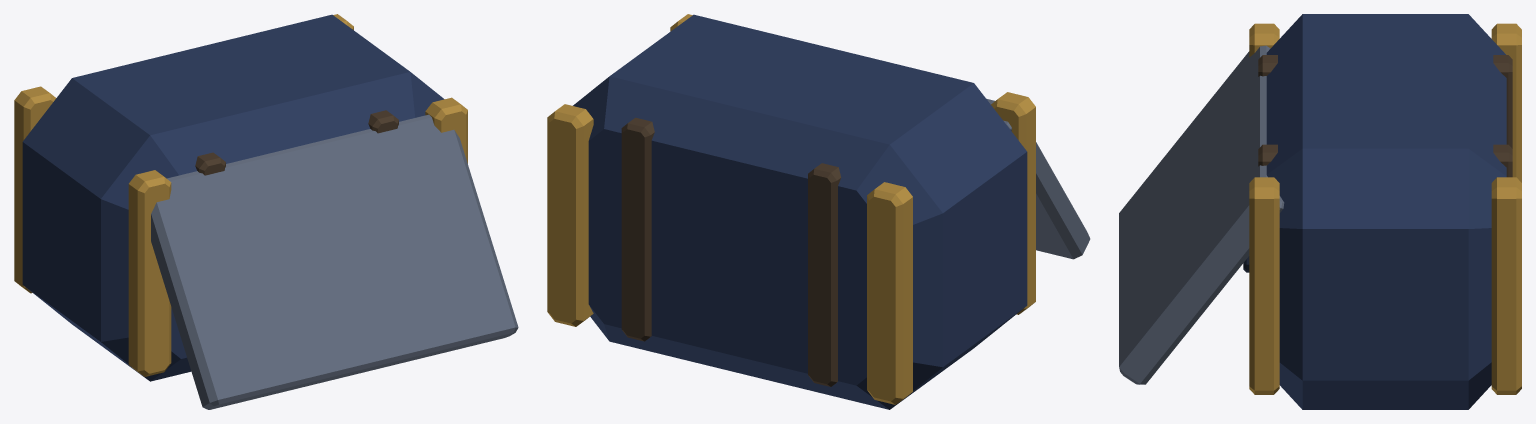
The model's file is shared_cache_opened.glb.
3 renders of one model, left to right at view 1: azimuth 30°, elevation 25°; view 2: azimuth 150°, elevation 25°; view 3: azimuth 270°, elevation 25°, orthographic. The views are drawn at different scales.
Parts seen in each view (by area): view 1: cache_lid_plate, cache_body, cache_corner-0.60.4, cache_corner-0.6-0.4, cache_corner0.60.4, cache_strap-0.35, cache_strap0.35; view 2: cache_body, cache_corner-0.6-0.4, cache_corner0.6-0.4, cache_strap0.35, cache_strap-0.35, cache_lid_plate, cache_corner-0.60.4; view 3: cache_body, cache_lid_plate, cache_corner0.60.4, cache_corner0.6-0.4, cache_corner-0.6-0.4, cache_strap-0.35, cache_strap0.35, cache_corner-0.60.4.
Part boxes in pixels (bbox=[...]): cache_lid_plate: bbox=[151, 114, 518, 409]; cache_body: bbox=[22, 14, 444, 381]; cache_corner-0.60.4: bbox=[128, 170, 171, 376]; cache_corner-0.6-0.4: bbox=[14, 86, 56, 293]; cache_corner0.60.4: bbox=[425, 97, 467, 163]; cache_strap-0.35: bbox=[195, 152, 225, 175]; cache_strap0.35: bbox=[368, 110, 398, 133]; cache_body: bbox=[573, 14, 1027, 409]; cache_corner-0.6-0.4: bbox=[867, 182, 912, 404]; cache_corner0.6-0.4: bbox=[547, 104, 593, 326]; cache_strap0.35: bbox=[621, 117, 654, 341]; cache_strap-0.35: bbox=[808, 163, 841, 386]; cache_lid_plate: bbox=[986, 98, 1090, 259]; cache_corner-0.60.4: bbox=[991, 92, 1035, 314]; cache_body: bbox=[1266, 14, 1506, 409]; cache_lid_plate: bbox=[1119, 45, 1284, 384]; cache_corner0.60.4: bbox=[1249, 177, 1279, 394]; cache_corner0.6-0.4: bbox=[1491, 177, 1521, 394]; cache_corner-0.6-0.4: bbox=[1491, 23, 1521, 182]; cache_strap-0.35: bbox=[1258, 55, 1512, 148]; cache_strap0.35: bbox=[1258, 144, 1512, 177]; cache_corner-0.60.4: bbox=[1249, 23, 1279, 57].
Bounding box in the file's own units: 1.45 × 0.952 × 1.33.
